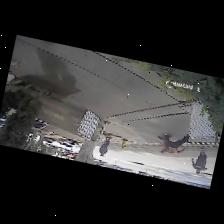person: (162, 133, 187, 153), (192, 148, 207, 172), (100, 137, 112, 155)
